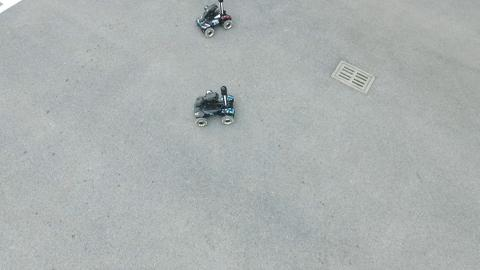chariot: (191, 86, 241, 131), (195, 1, 235, 40)
